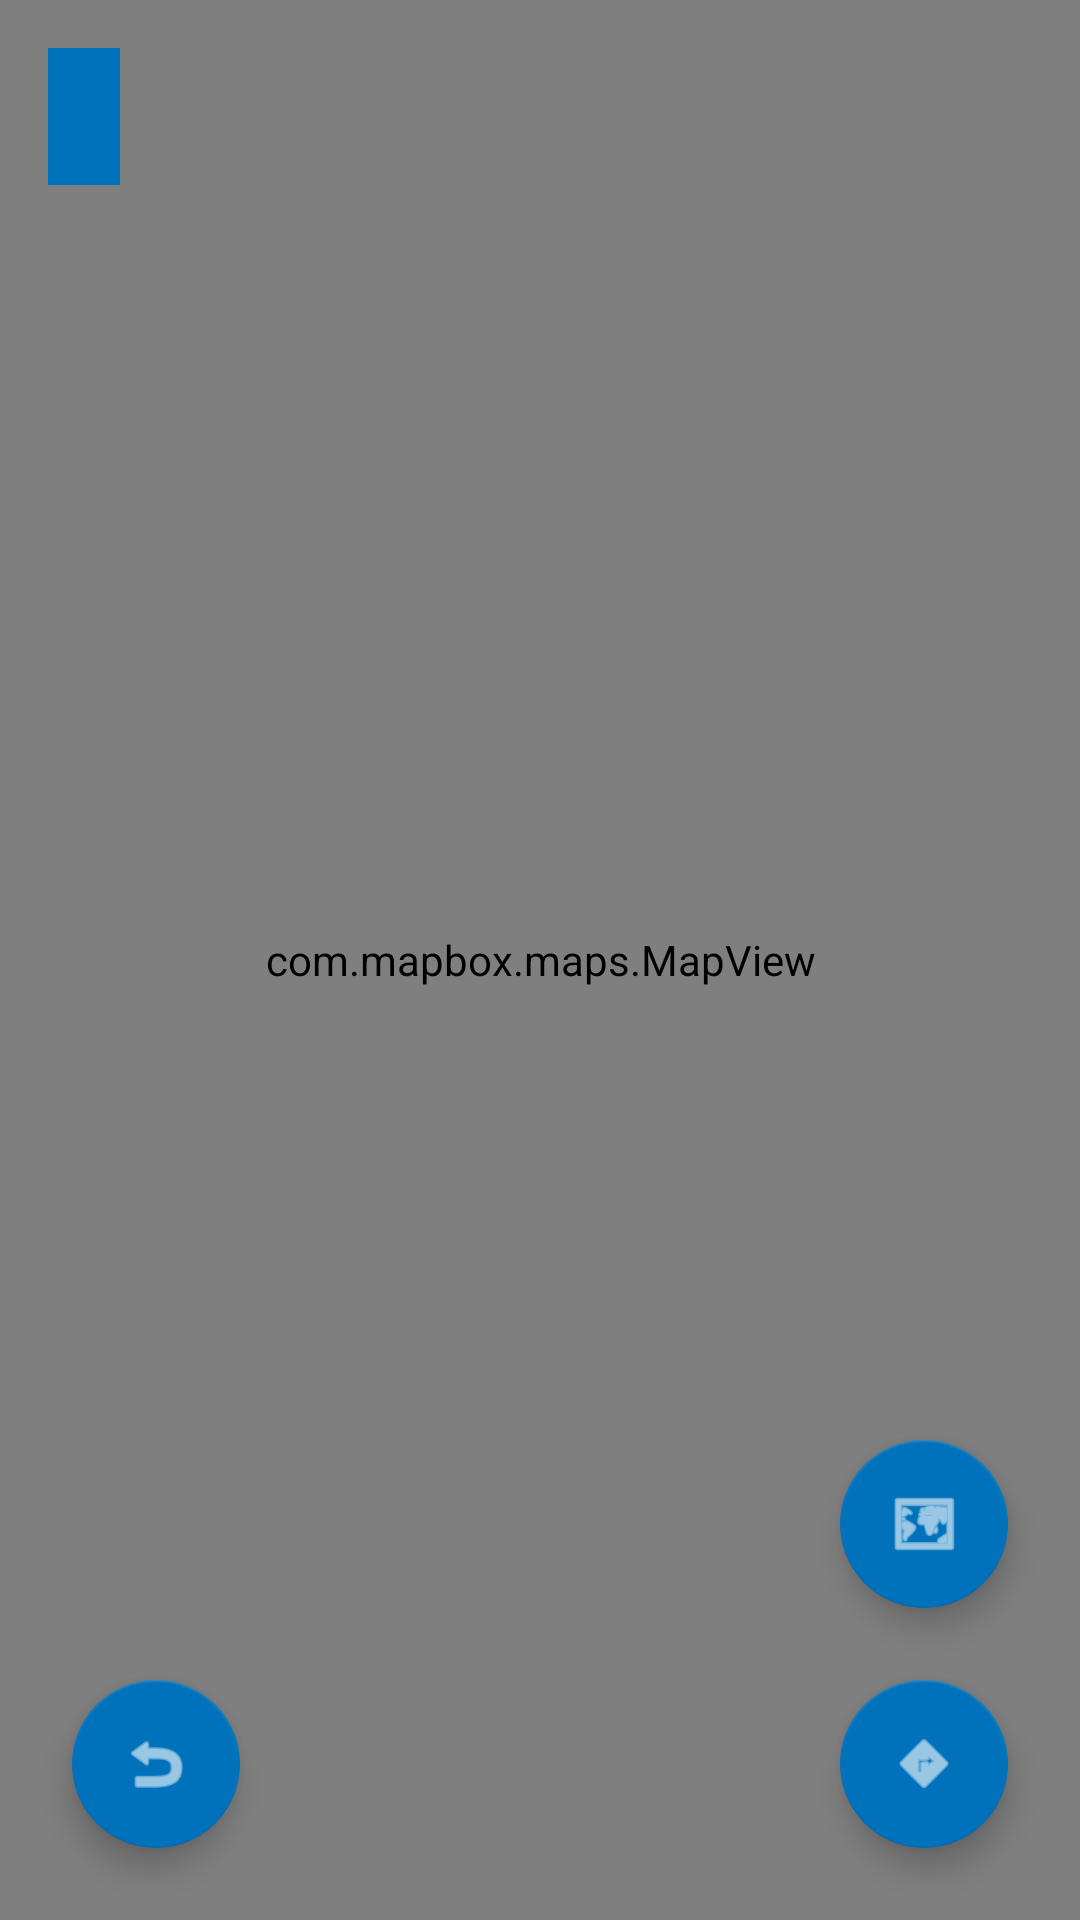

Screen size 1080 × 1920. Icon name, then its box in pixels as [x1=x1, y1=y1, x2=x2, y2=y2]:
Cambiar estilo de mapa: [x1=840, y1=1440, x2=1008, y2=1608]
Mostrar ruta: [x1=840, y1=1680, x2=1008, y2=1848]
Regresar: [x1=72, y1=1680, x2=240, y2=1848]
